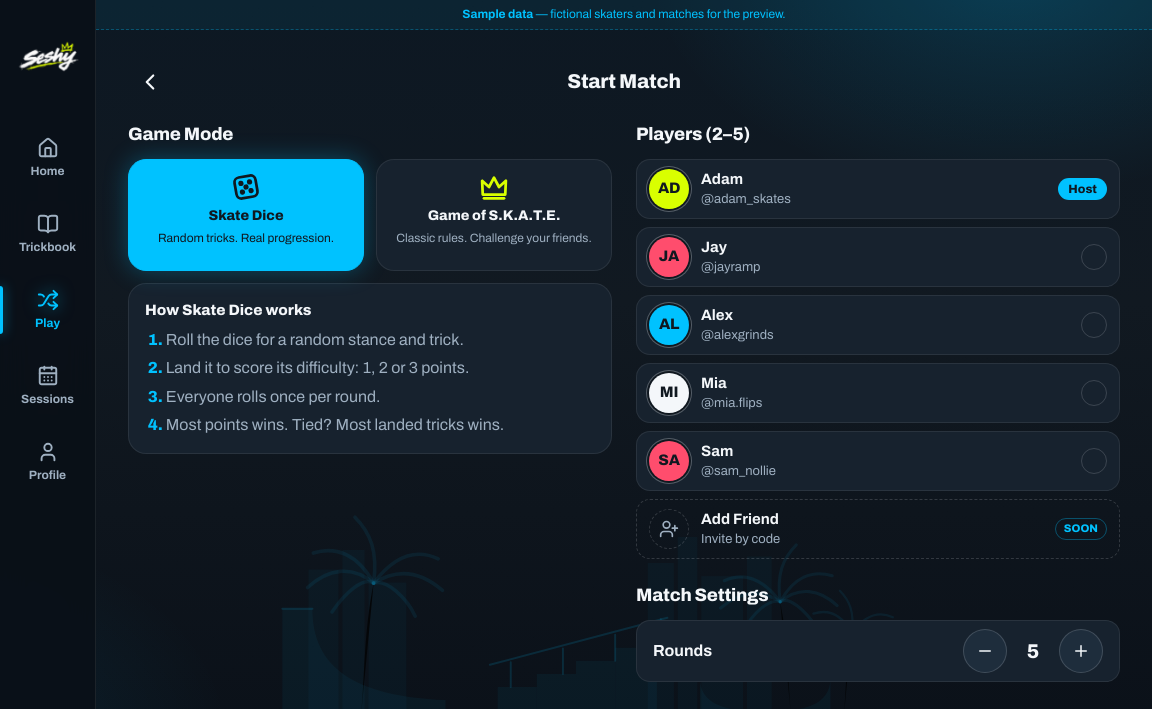
it: Start a Match › lets you pick a game but honestly disables starting
The width and height of the screenshot is (1152, 709).
Expected: the heading "How Skate Dice works" is shown, [145,302,311,318]
Click the radio button labelled "Game of S.K.A.T.E. Classic rules. Challenge your friends.": (494, 215) [376,159,612,271]
(page scrolled)
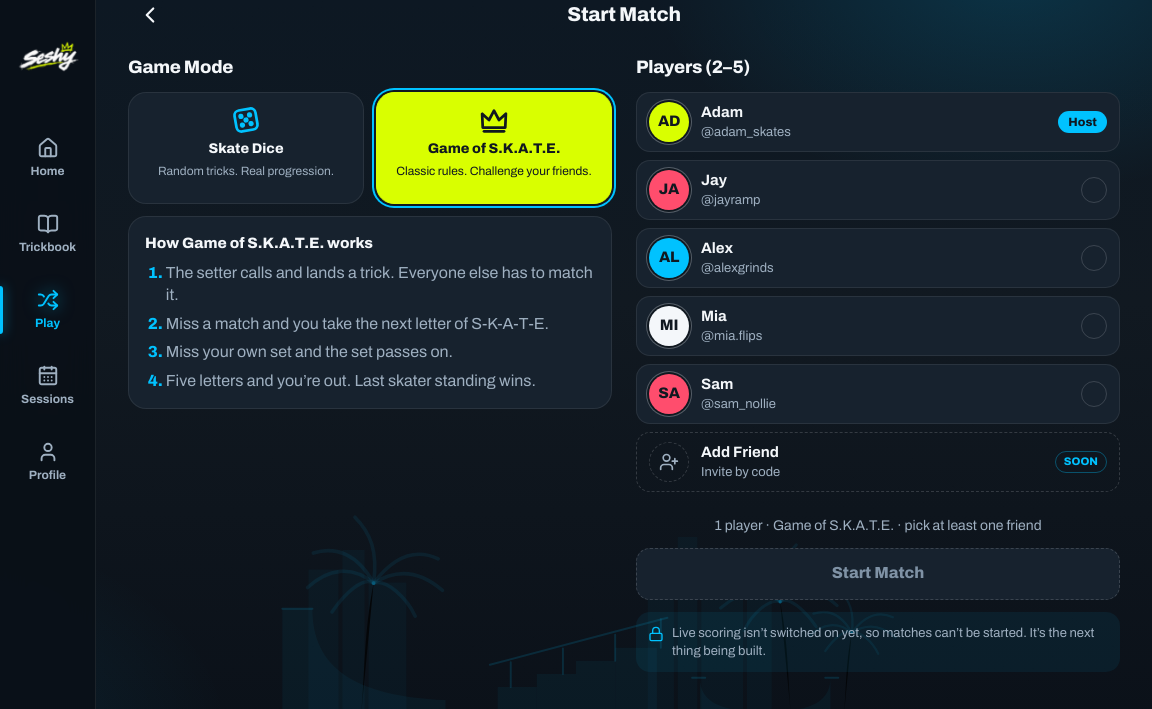
Expected: the button "Start Match" is disabled, [636,548,1120,600]
Now the heading "How Game of S.K.A.T.E. works" is shown, box [145,235,373,251]
